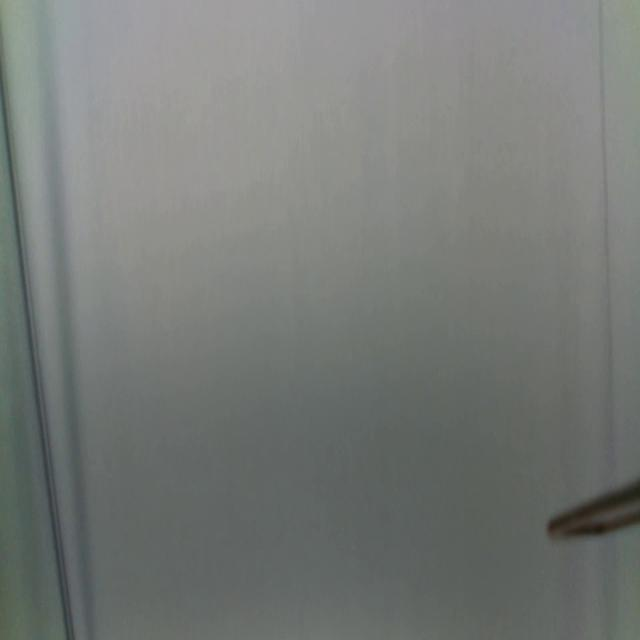crease: (0, 58, 76, 640), (597, 0, 618, 489)
